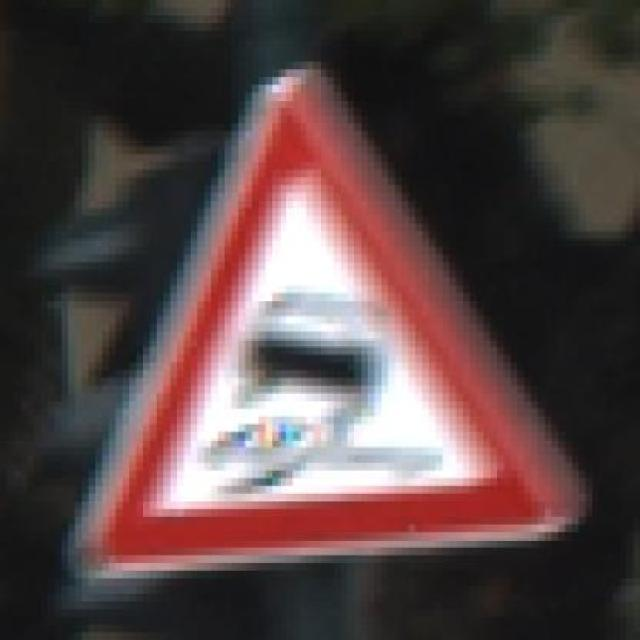Slippery Road Ahead: (75, 62, 593, 586)
